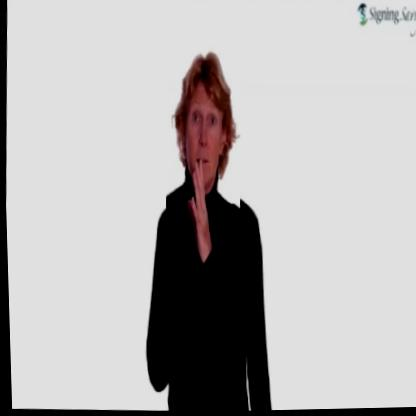Talk: (158, 32, 247, 281)
